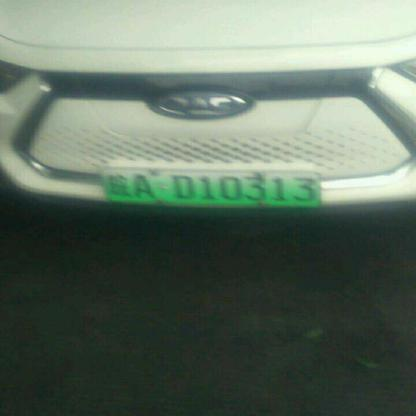lp: (102, 166, 319, 206)
